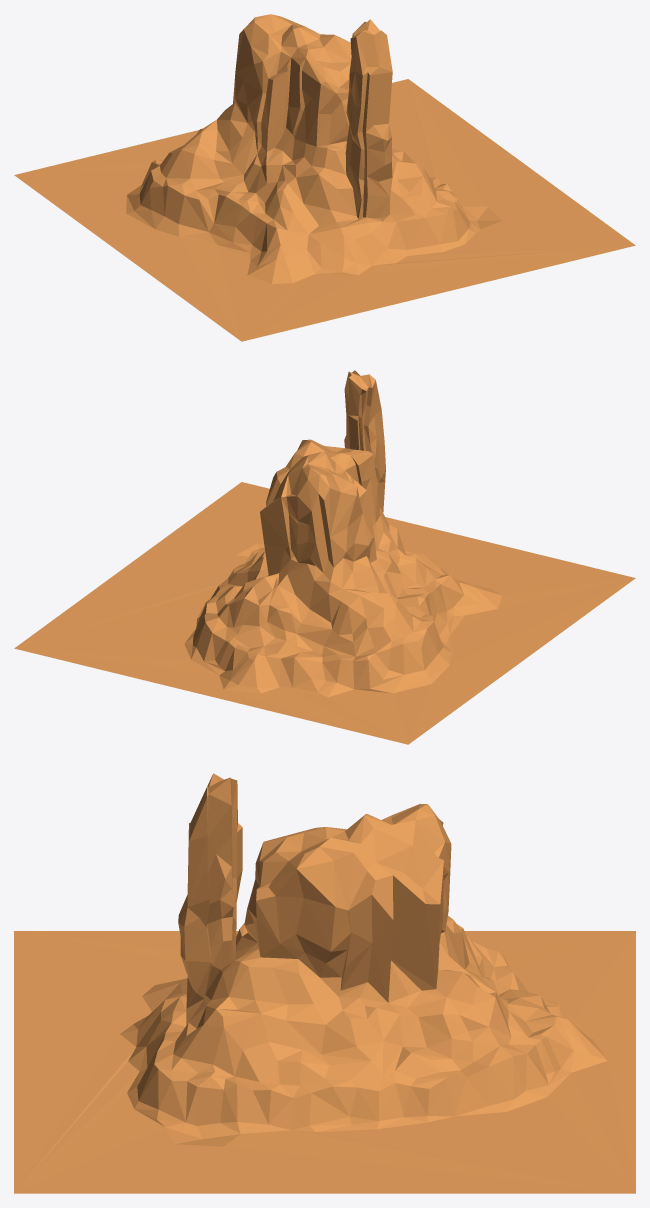
The model's file is Mountain 1.fbx.
3 renders of one model, top to bottom at view 1: azimuth 30°, elevation 25°; view 2: azimuth 150°, elevation 25°; view 3: azimuth 270°, elevation 25°, orthographic. The views are drawn at different scales.
Parts seen in each view (by area): view 1: Icosphere; view 2: Icosphere; view 3: Icosphere.
Part boxes in pixels (left/top/right/bottom): Icosphere: left=14, top=14, right=635, bottom=341; Icosphere: left=14, top=370, right=635, bottom=744; Icosphere: left=14, top=773, right=635, bottom=1193.
Bounding box in the file's own units: 10126 × 5343 × 10126.
